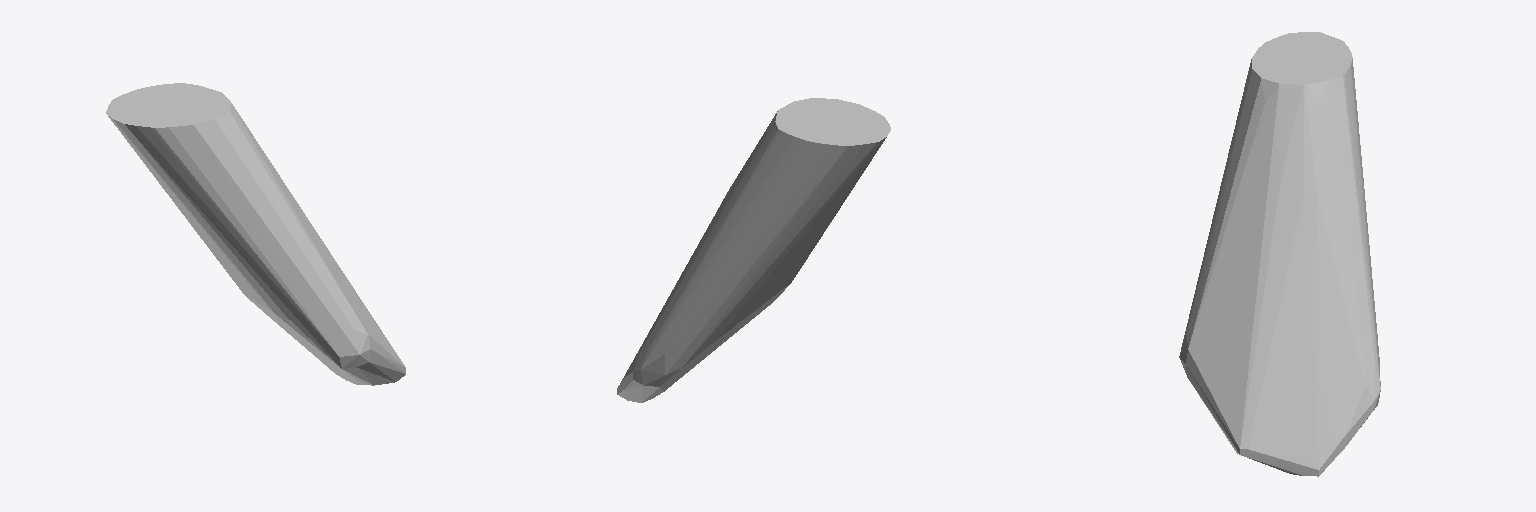
The model's file is woman_collision_6.obj.
The picture shows the model from 3 angles: view 1: azimuth 30°, elevation 25°; view 2: azimuth 150°, elevation 25°; view 3: azimuth 270°, elevation 25°; orthographic projection.
Size of the model in its own units: 22.18 by 25.9 by 14.77.